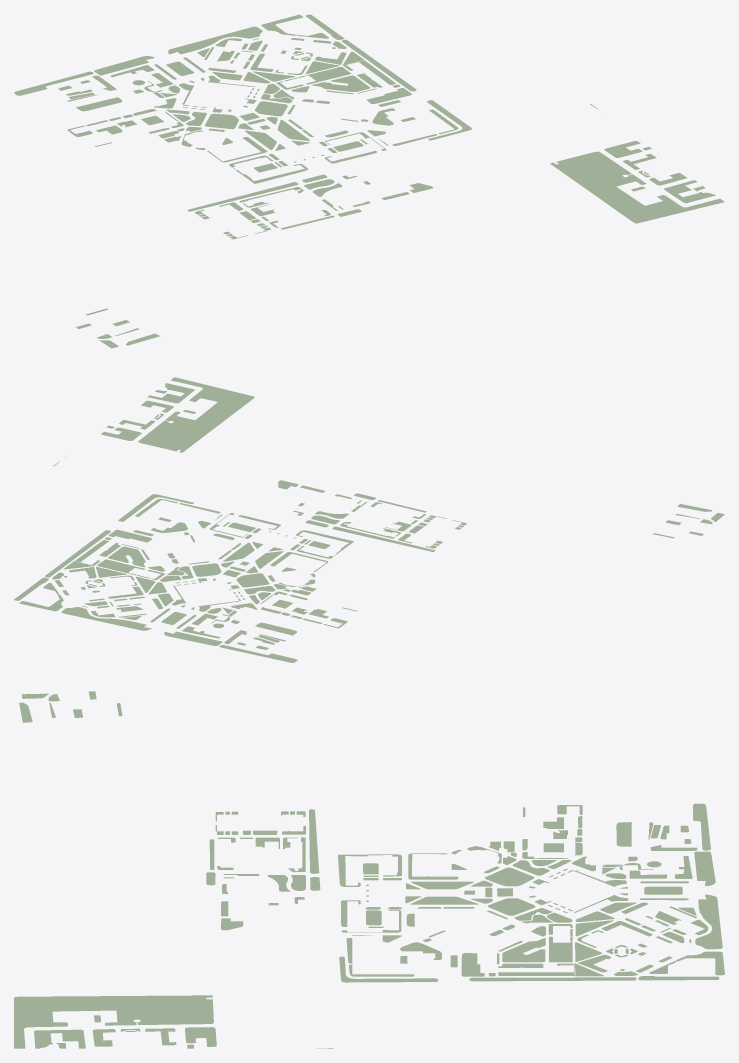
The model's file is original-greens.glb.
The picture shows the model from 3 angles, top to bottom: view 1: azimuth 30°, elevation 25°; view 2: azimuth 150°, elevation 25°; view 3: azimuth 270°, elevation 25°; orthographic projection. The views are drawn at different scales.
Parts seen in each view (by area): view 1: 原校园绿色地块; view 2: 原校园绿色地块; view 3: 原校园绿色地块.
Part boxes in pixels (x1,y1,x2,y2): 原校园绿色地块: (14, 14, 724, 348); 原校园绿色地块: (14, 377, 724, 662); 原校园绿色地块: (14, 691, 724, 1048).
Size of the model in its own units: 998 by 0 by 838.
